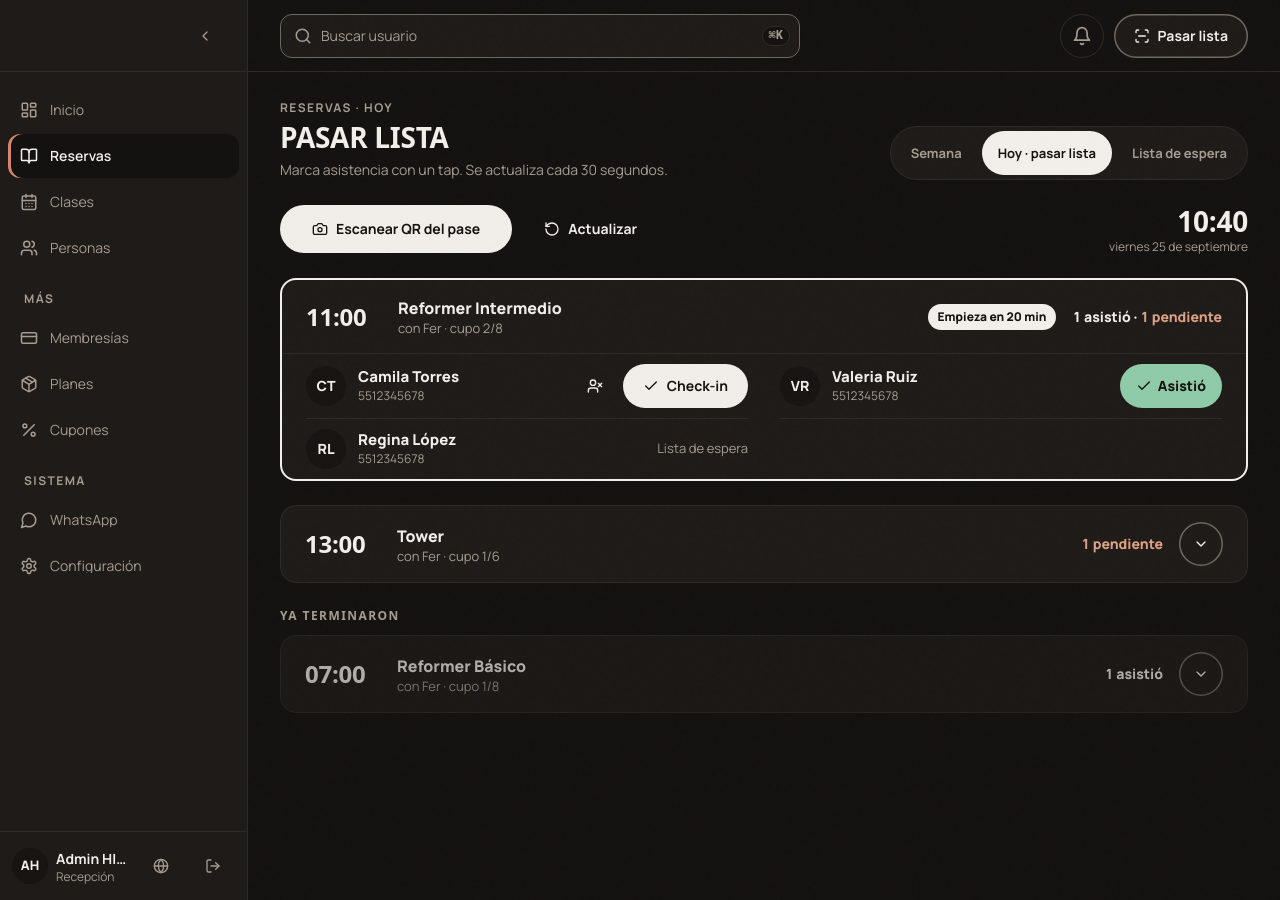
Test: Pasar lista › las clases siguientes van plegadas y se abren
The width and height of the screenshot is (1280, 900).
Click the button named "Abrir lista de Tower" at (1201, 544), box [1179,522,1223,566]
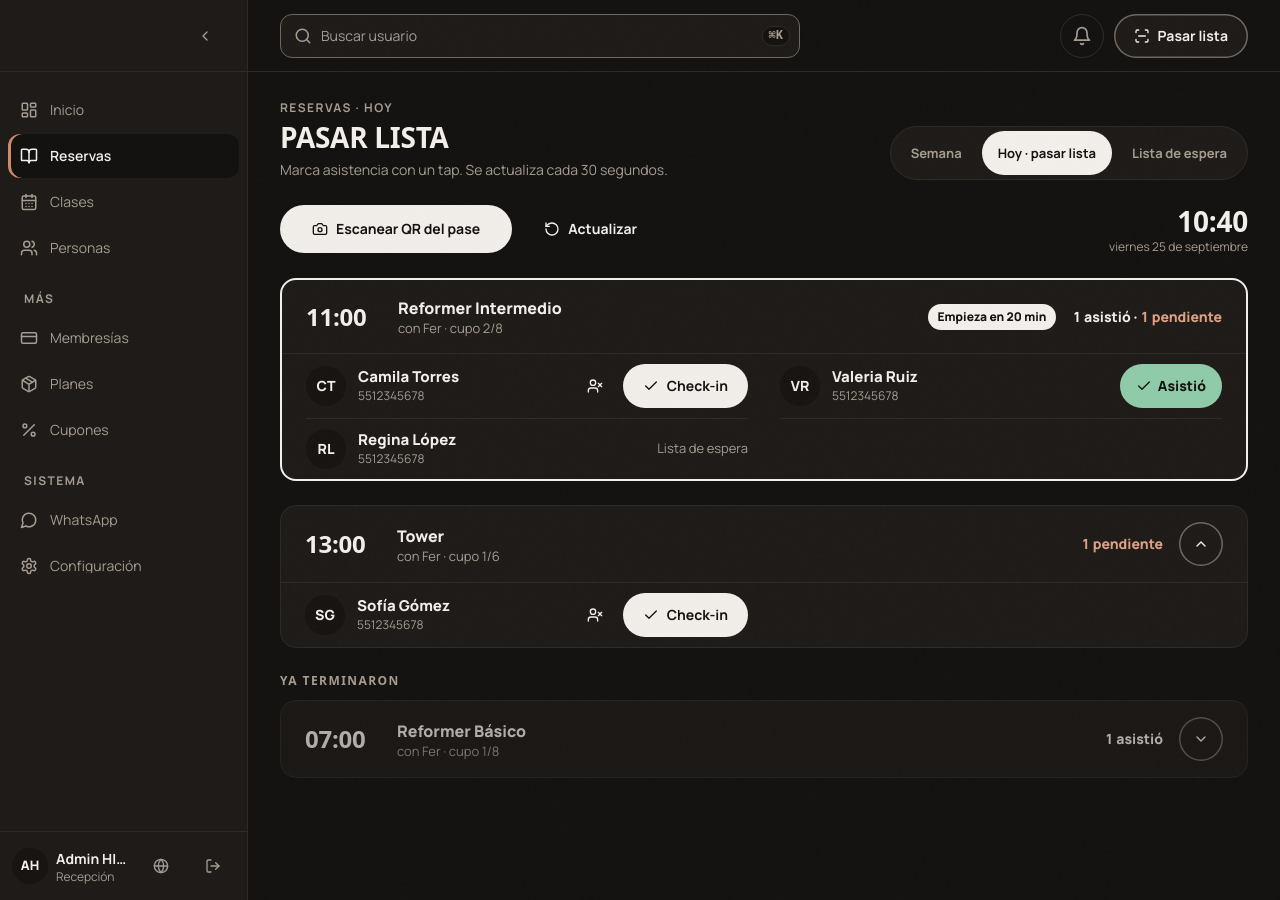
Result: the button with aria-label "Check-in de Sofía Gómez" is shown at [623,593,748,637]
